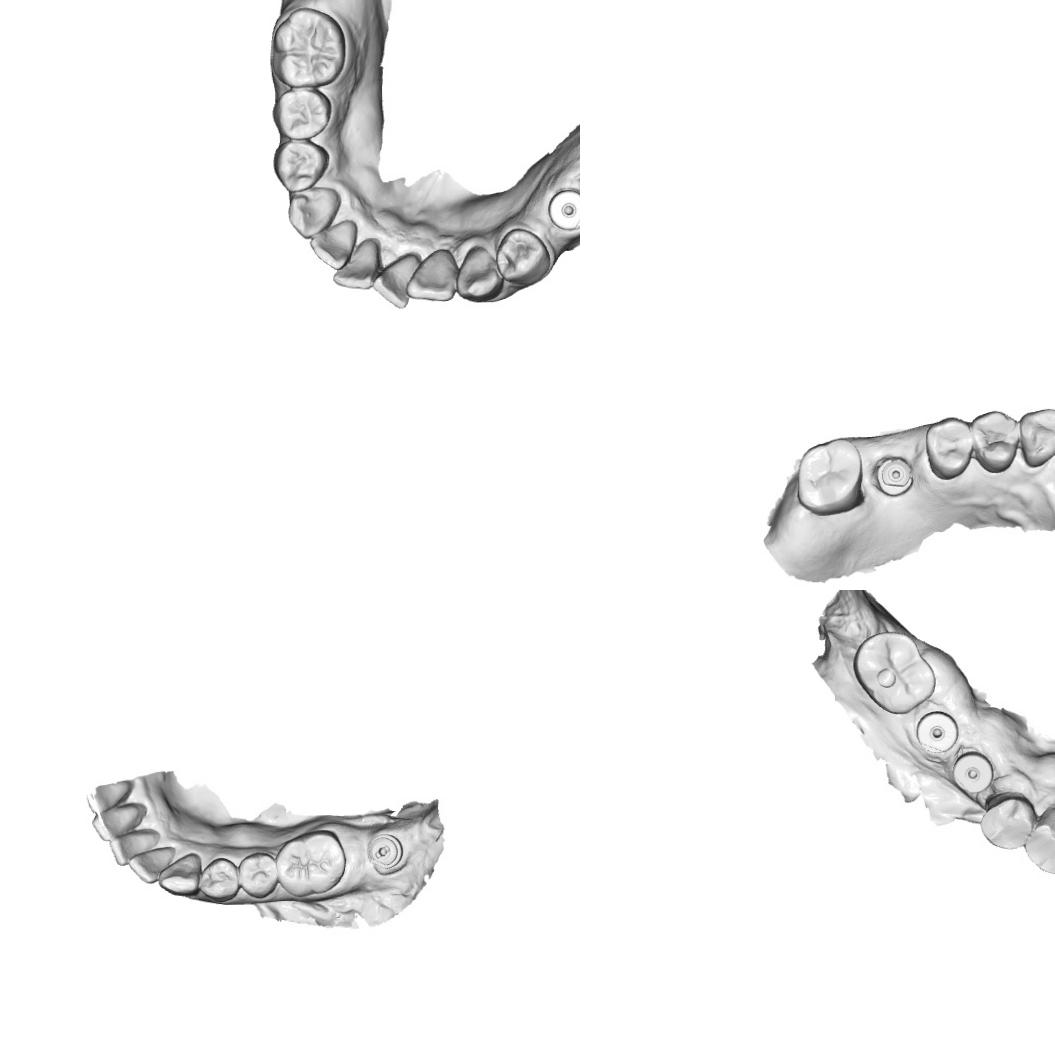canine: (286, 185, 342, 240), (454, 244, 505, 302), (1020, 807, 1055, 876), (1018, 406, 1055, 470), (156, 852, 201, 898)
implant: (914, 708, 960, 754), (951, 750, 994, 792), (874, 454, 915, 495), (546, 187, 580, 231)
implant_minus: (366, 832, 404, 870)
incisor: (402, 247, 458, 304), (370, 250, 421, 312), (308, 216, 359, 272), (331, 236, 380, 292), (108, 829, 162, 867), (90, 802, 141, 842), (127, 844, 176, 884), (84, 780, 132, 814)
molar: (852, 631, 936, 716), (271, 5, 346, 89), (793, 435, 865, 517), (273, 829, 348, 900)
premolar: (968, 408, 1024, 475), (494, 226, 552, 288), (924, 414, 976, 482), (271, 85, 333, 141), (978, 793, 1035, 853), (271, 138, 330, 192), (236, 850, 278, 900), (197, 856, 240, 902)
